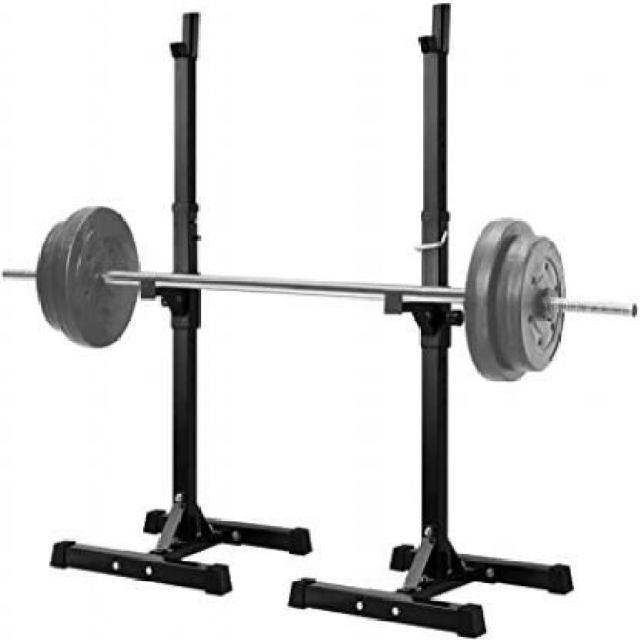Barbell: (620, 294, 638, 328)
